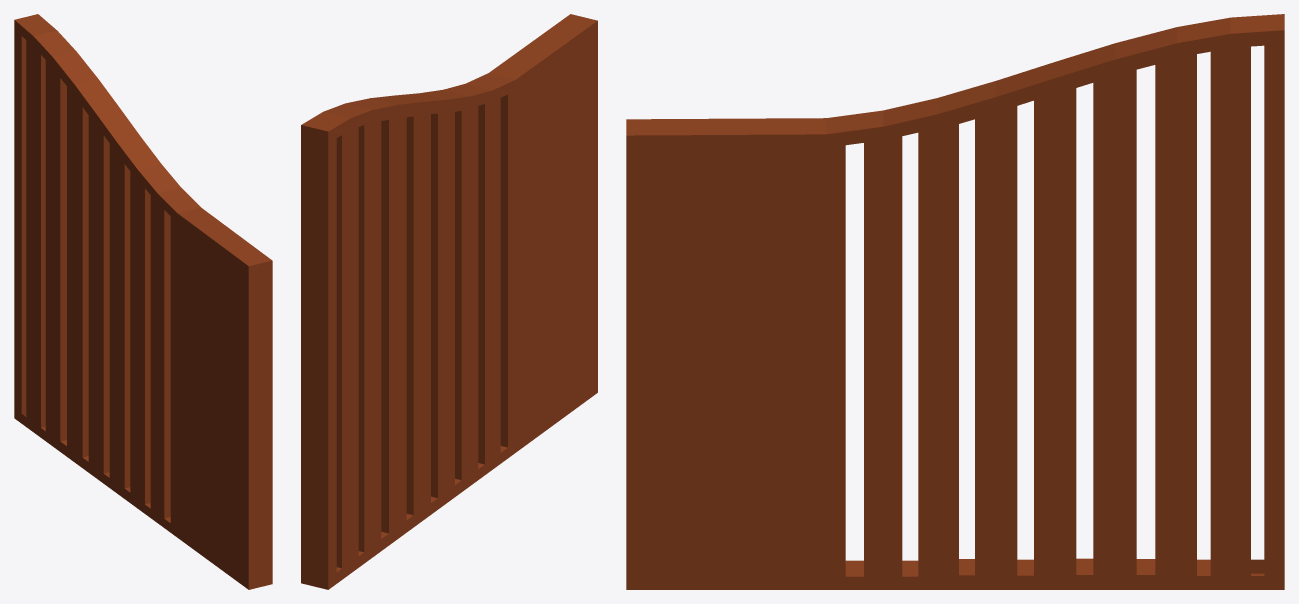
File: gate.gltf
3 views of the same model, side by side, from view 1: azimuth 30°, elevation 25°; view 2: azimuth 150°, elevation 25°; view 3: azimuth 270°, elevation 25° (orthographic). The views are drawn at different scales.
Parts seen in each view (by area): view 1: Cube.056; view 2: Cube.056; view 3: Cube.056.
Boxes of the visible parts, bbox=[...] form: Cube.056: bbox=[14, 14, 272, 589]; Cube.056: bbox=[301, 14, 597, 589]; Cube.056: bbox=[626, 14, 1284, 589].
Bounding box in the file's own units: 0.2716 × 4.37 × 4.65.
